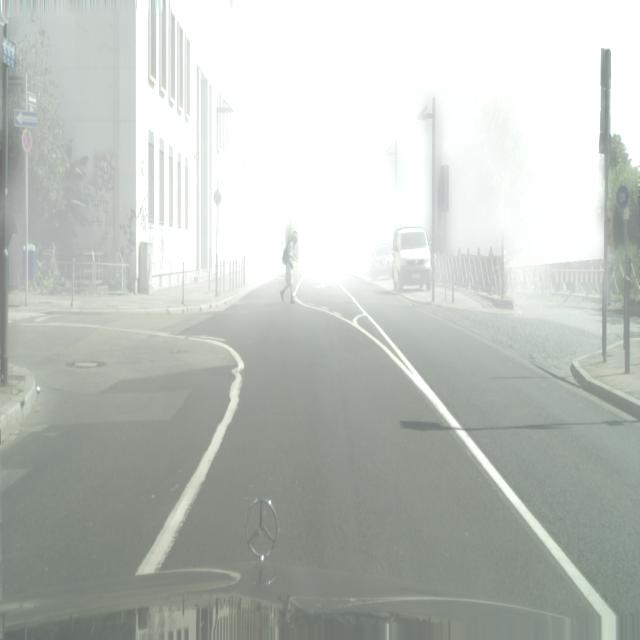person: (279, 231, 298, 304)
rider: (392, 228, 432, 293)
truck: (392, 228, 432, 292), (370, 242, 393, 281), (361, 248, 373, 278)
